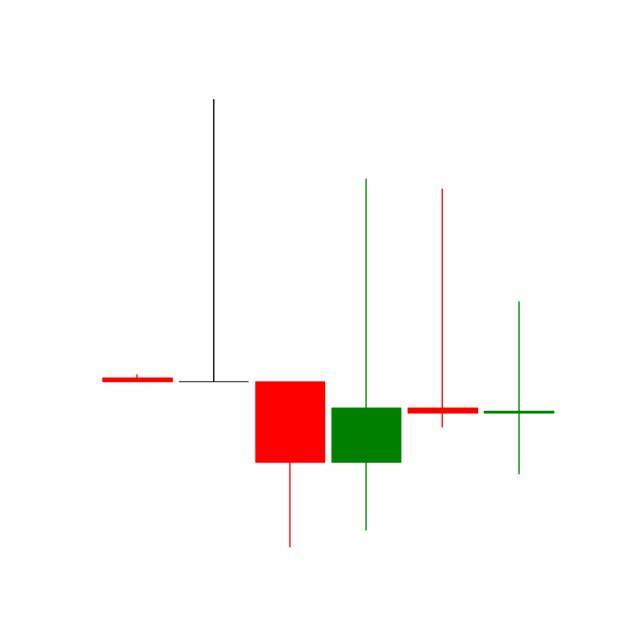Gravestone Doji: (404, 186, 482, 431)
